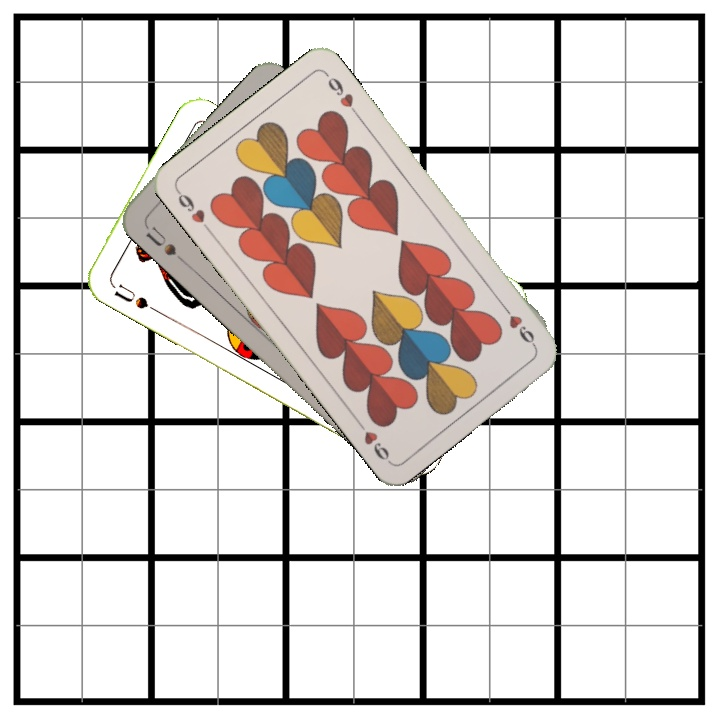H9: (172, 185, 214, 235), (497, 299, 539, 349)
SU: (141, 220, 187, 266), (107, 279, 161, 316)
